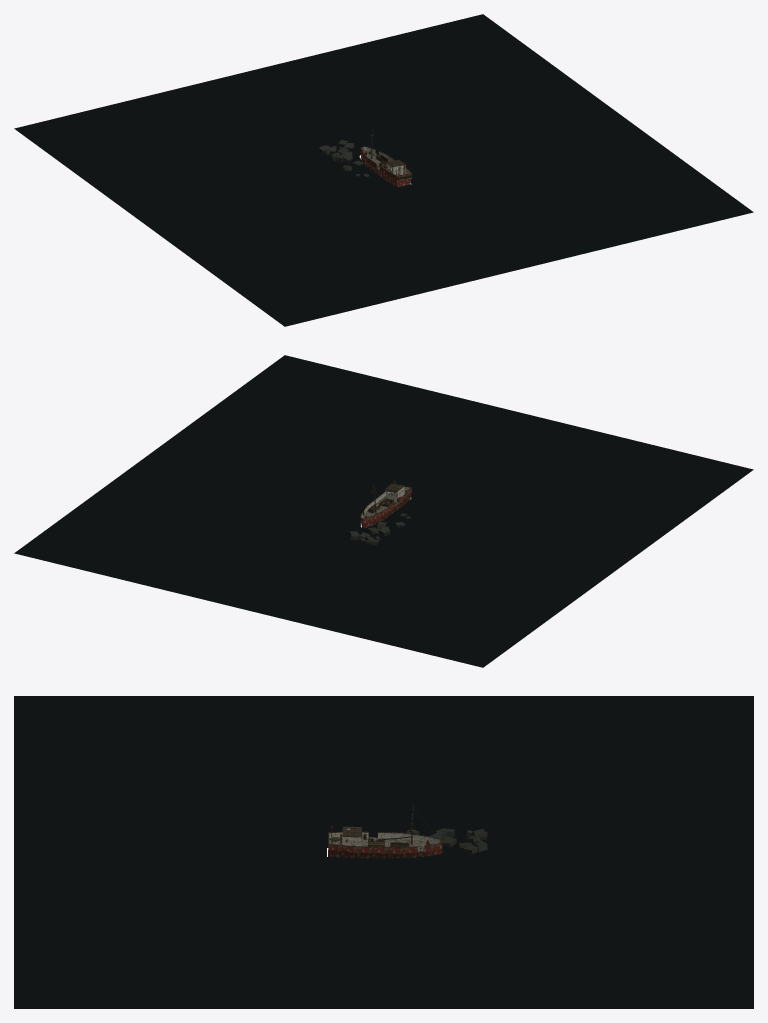
The model's file is fishing-vessel.glb.
The picture shows the model from 3 angles, top to bottom: view 1: azimuth 30°, elevation 25°; view 2: azimuth 150°, elevation 25°; view 3: azimuth 270°, elevation 25°; orthographic projection. The views are drawn at different scales.
Visible parts, largest first — view 1: Mesh_sea, Mesh_rock; view 2: Mesh_sea, Mesh_rock; view 3: Mesh_sea, Mesh_hull_out, Mesh_rock, Mesh_timber, Mesh_deck, Mesh_paint.
Boxes of the visible parts, bbox=[...] form: Mesh_sea: bbox=[14, 14, 753, 326]; Mesh_rock: bbox=[318, 139, 369, 177]; Mesh_sea: bbox=[14, 355, 753, 667]; Mesh_rock: bbox=[348, 513, 410, 545]; Mesh_sea: bbox=[14, 696, 753, 1008]; Mesh_hull_out: bbox=[328, 842, 442, 858]; Mesh_rock: bbox=[406, 828, 487, 854]; Mesh_timber: bbox=[328, 805, 442, 853]; Mesh_deck: bbox=[329, 837, 442, 853]; Mesh_paint: bbox=[329, 828, 441, 846].
Bounding box in the file's own units: 120 × 10.92 × 120.
30 materials, 11 textured.
